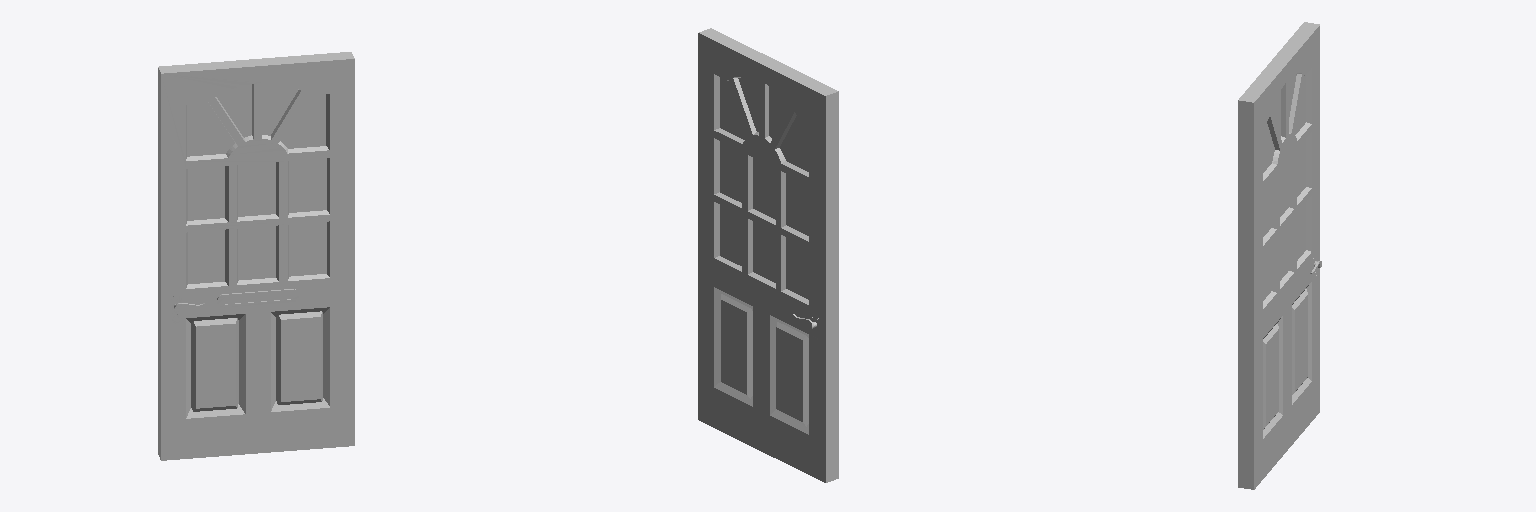
The model's file is door_000014.obj.
The picture shows the model from 3 angles: view 1: azimuth 30°, elevation 25°; view 2: azimuth 150°, elevation 25°; view 3: azimuth 270°, elevation 25°; orthographic projection.
Visible parts, largest first — view 1: Door.003; view 2: Door.003; view 3: Door.003.
Part boxes in pixels (x1,y1,x2,y2): Door.003: (158,52,354,460); Door.003: (698,28,838,482); Door.003: (1238,22,1321,489).
Bounding box in the file's own units: 0.7183 × 1.6 × 0.316.